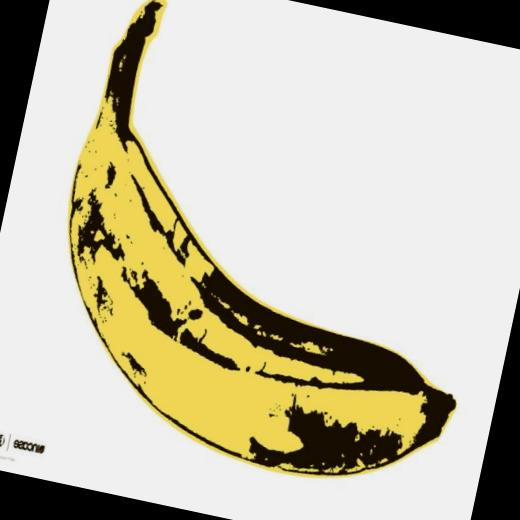Banana: (35, 0, 520, 498)
